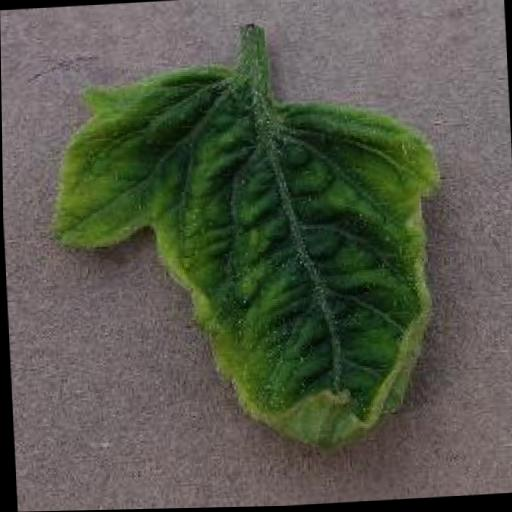Yellow Leaf Curl Virus: (43, 50, 454, 458)
